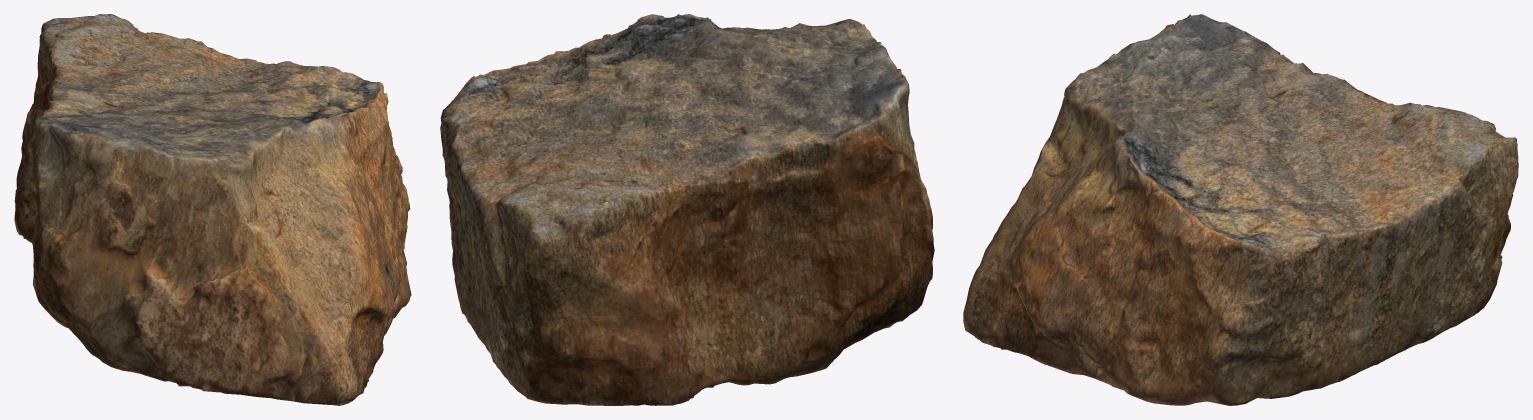
The model's file is ph-namaqualand-boulder-03.glb.
3 views of the same model, side by side, from view 1: azimuth 30°, elevation 25°; view 2: azimuth 150°, elevation 25°; view 3: azimuth 270°, elevation 25° (orthographic). The views are drawn at different scales.
Visible parts, largest first — view 1: boulder_03_LOD0; view 2: boulder_03_LOD0; view 3: boulder_03_LOD0.
Part boxes in pixels (x1,y1,x2,y2): boulder_03_LOD0: [14, 14, 411, 405]; boulder_03_LOD0: [440, 14, 934, 405]; boulder_03_LOD0: [963, 14, 1518, 405].
Size of the model in its own units: 2.41 by 1.47 by 3.07.
Materials: 1 (1 with a texture image).
